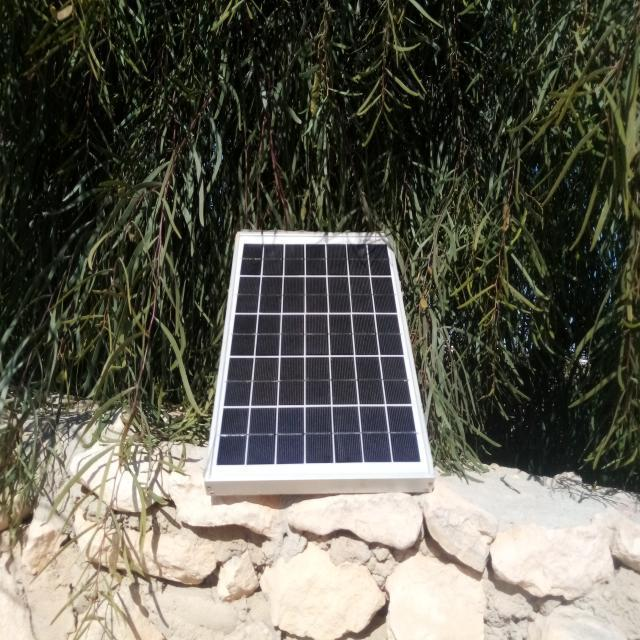Normal Solar Panel: (209, 236, 429, 478)
